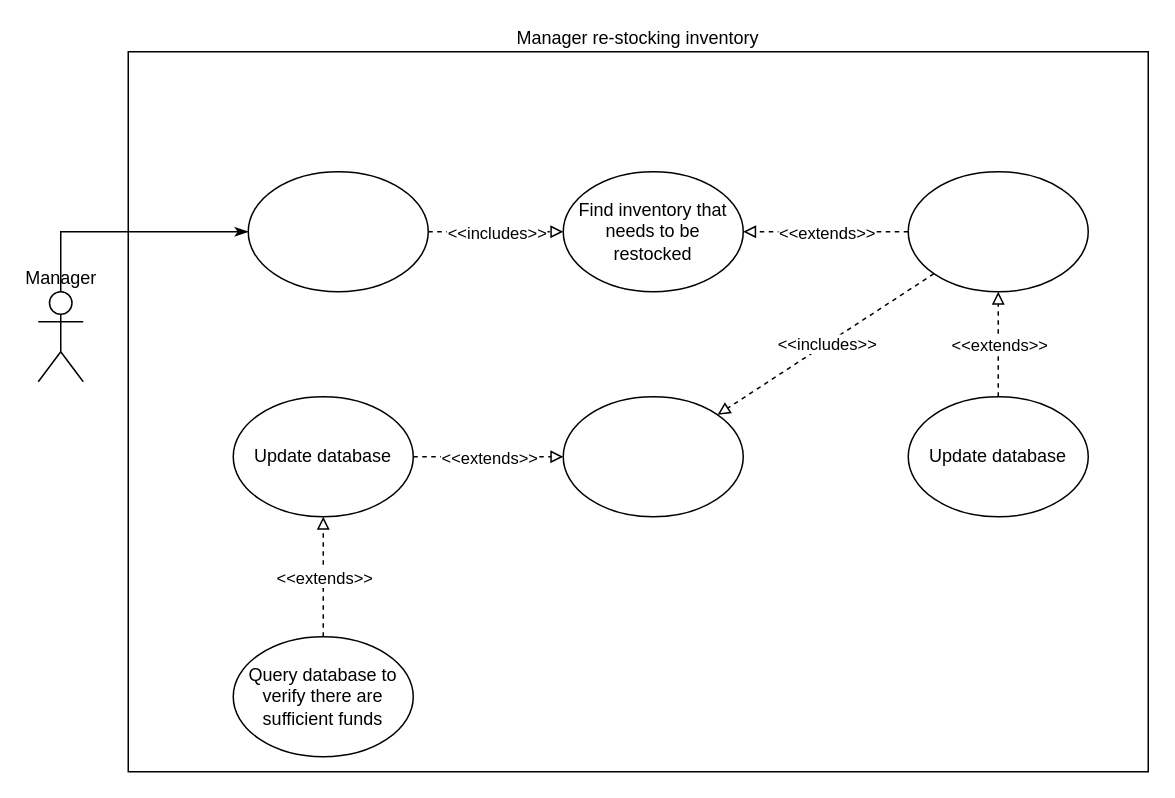
Some shapes in this 1175 by 798 pixel diagram are drawn without their labels. The box of each missing label's shape, as (x1, y1, x2, y2) in pixels:
Look at shop inventory: (247, 170, 428, 292)
Order more: (907, 170, 1088, 292)
Pay for the goods: (562, 395, 743, 517)
